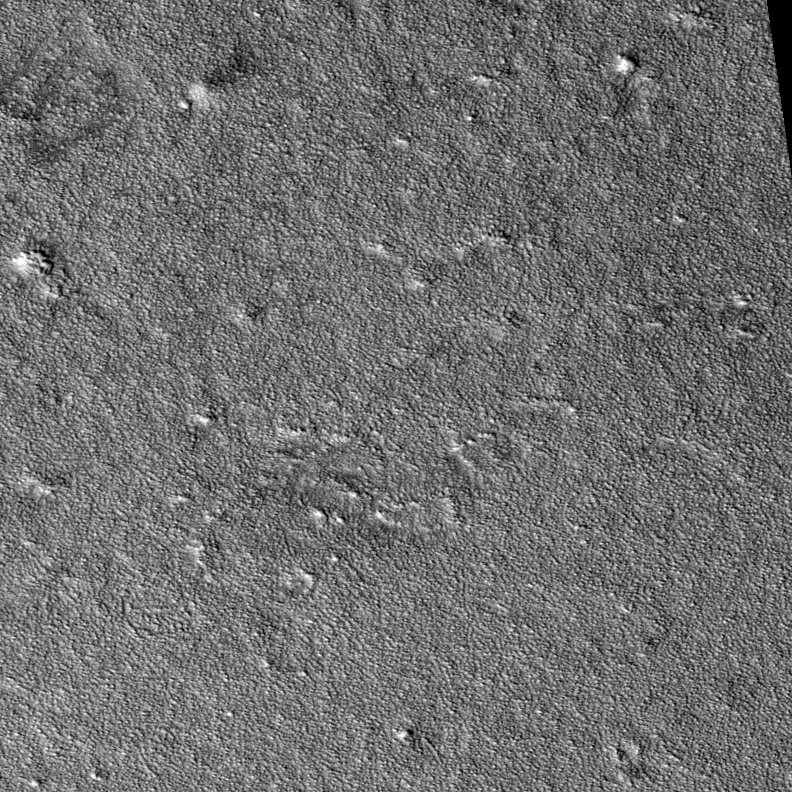dust_devil: (187, 41, 255, 110)
